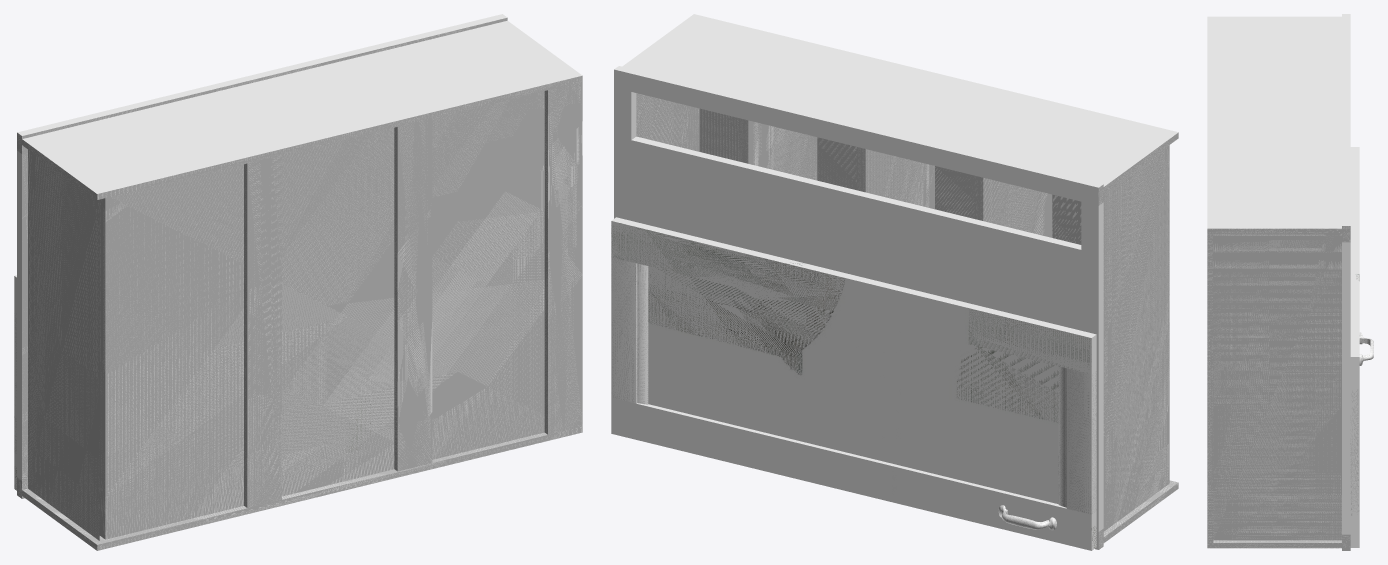
The picture shows the model from 3 angles, left to right: view 1: azimuth 30°, elevation 25°; view 2: azimuth 150°, elevation 25°; view 3: azimuth 270°, elevation 25°; orthographic projection. The views are drawn at different scales.
Parts seen in each view (by area): view 1: mesh6_mesh6-geometry, mesh3_mesh3-geometry, mesh8_mesh8-geometry, mesh1_mesh1-geometry, mesh7_mesh7-geometry, mesh9_mesh9-geometry, mesh4_mesh4-geometry, mesh2_mesh2-geometry; view 2: mesh17_mesh17-geometry, mesh11_mesh11-geometry, mesh8_mesh8-geometry, mesh1_mesh1-geometry, mesh14_mesh14-geometry, mesh13_mesh13-geometry, mesh9_mesh9-geometry, mesh12_mesh12-geometry, mesh4_mesh4-geometry, mesh5_mesh5-geometry, mesh16_mesh16-geometry, mesh15_mesh15-geometry (+1 smaller); view 3: mesh2_mesh2-geometry, mesh8_mesh8-geometry, mesh4_mesh4-geometry, mesh14_mesh14-geometry, mesh3_mesh3-geometry, mesh9_mesh9-geometry, mesh15_mesh15-geometry, mesh7_mesh7-geometry, mesh13_mesh13-geometry, mesh19_mesh19-geometry.
Boxes of the visible parts, bbox=[...] form: mesh6_mesh6-geometry: bbox=[105, 91, 544, 539]; mesh3_mesh3-geometry: bbox=[244, 82, 582, 508]; mesh8_mesh8-geometry: bbox=[22, 20, 582, 199]; mesh1_mesh1-geometry: bbox=[28, 150, 99, 540]; mesh7_mesh7-geometry: bbox=[22, 426, 582, 550]; mesh9_mesh9-geometry: bbox=[17, 14, 507, 154]; mesh4_mesh4-geometry: bbox=[17, 151, 27, 480]; mesh2_mesh2-geometry: bbox=[99, 198, 105, 538]; mesh17_mesh17-geometry: bbox=[648, 266, 1058, 503]; mesh11_mesh11-geometry: bbox=[631, 136, 1081, 330]; mesh8_mesh8-geometry: bbox=[622, 14, 1178, 192]; mesh1_mesh1-geometry: bbox=[636, 93, 1169, 531]; mesh14_mesh14-geometry: bbox=[611, 217, 1096, 374]; mesh13_mesh13-geometry: bbox=[611, 397, 1096, 550]; mesh9_mesh9-geometry: bbox=[614, 66, 1103, 205]; mesh12_mesh12-geometry: bbox=[739, 118, 1052, 237]; mesh4_mesh4-geometry: bbox=[614, 87, 1103, 531]; mesh5_mesh5-geometry: bbox=[699, 108, 1081, 244]; mesh16_mesh16-geometry: bbox=[1058, 366, 1096, 514]; mesh15_mesh15-geometry: bbox=[611, 257, 648, 404]; mesh2_mesh2-geometry: bbox=[1213, 234, 1341, 540]; mesh8_mesh8-geometry: bbox=[1207, 16, 1341, 234]; mesh4_mesh4-geometry: bbox=[1342, 242, 1350, 534]; mesh14_mesh14-geometry: bbox=[1350, 147, 1359, 389]; mesh3_mesh3-geometry: bbox=[1207, 234, 1213, 542]; mesh9_mesh9-geometry: bbox=[1342, 14, 1350, 242]; mesh15_mesh15-geometry: bbox=[1350, 389, 1359, 515]; mesh7_mesh7-geometry: bbox=[1207, 540, 1341, 548]; mesh13_mesh13-geometry: bbox=[1350, 515, 1359, 547]; mesh19_mesh19-geometry: bbox=[1359, 332, 1373, 365].
Size of the model in its own units: 0.7857 by 0.5612 by 0.2602.
